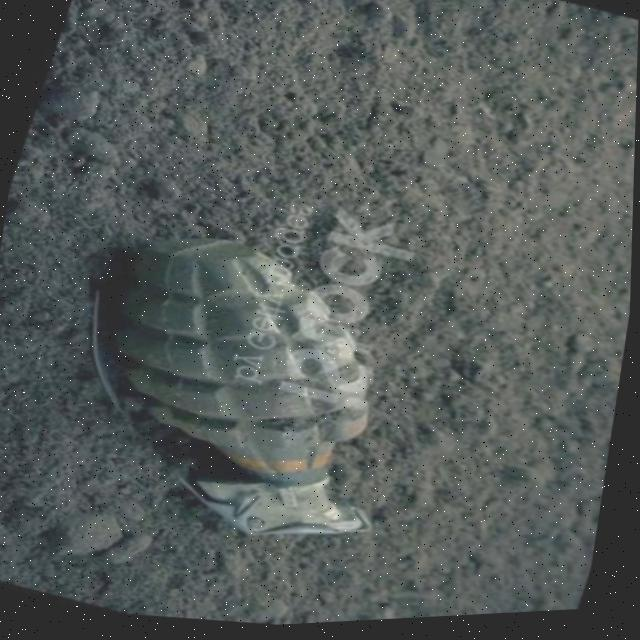grenade: (11, 186, 461, 592)
